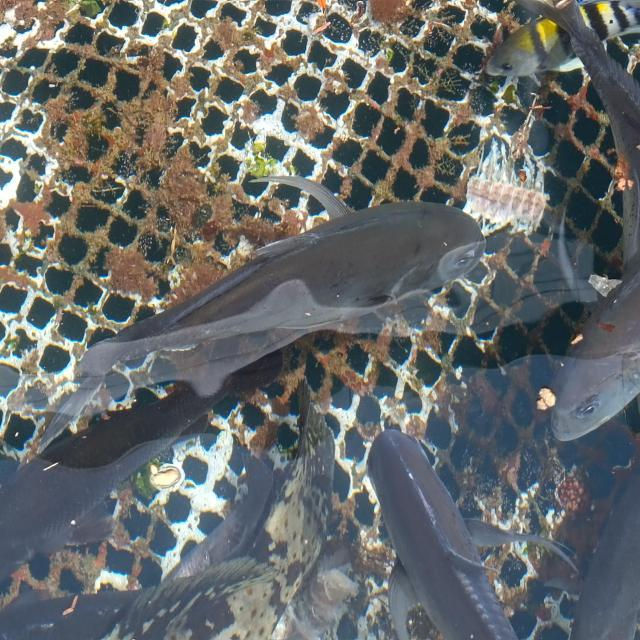ikan: (63, 174, 481, 416), (350, 422, 530, 640), (539, 264, 635, 453), (475, 13, 580, 98)
